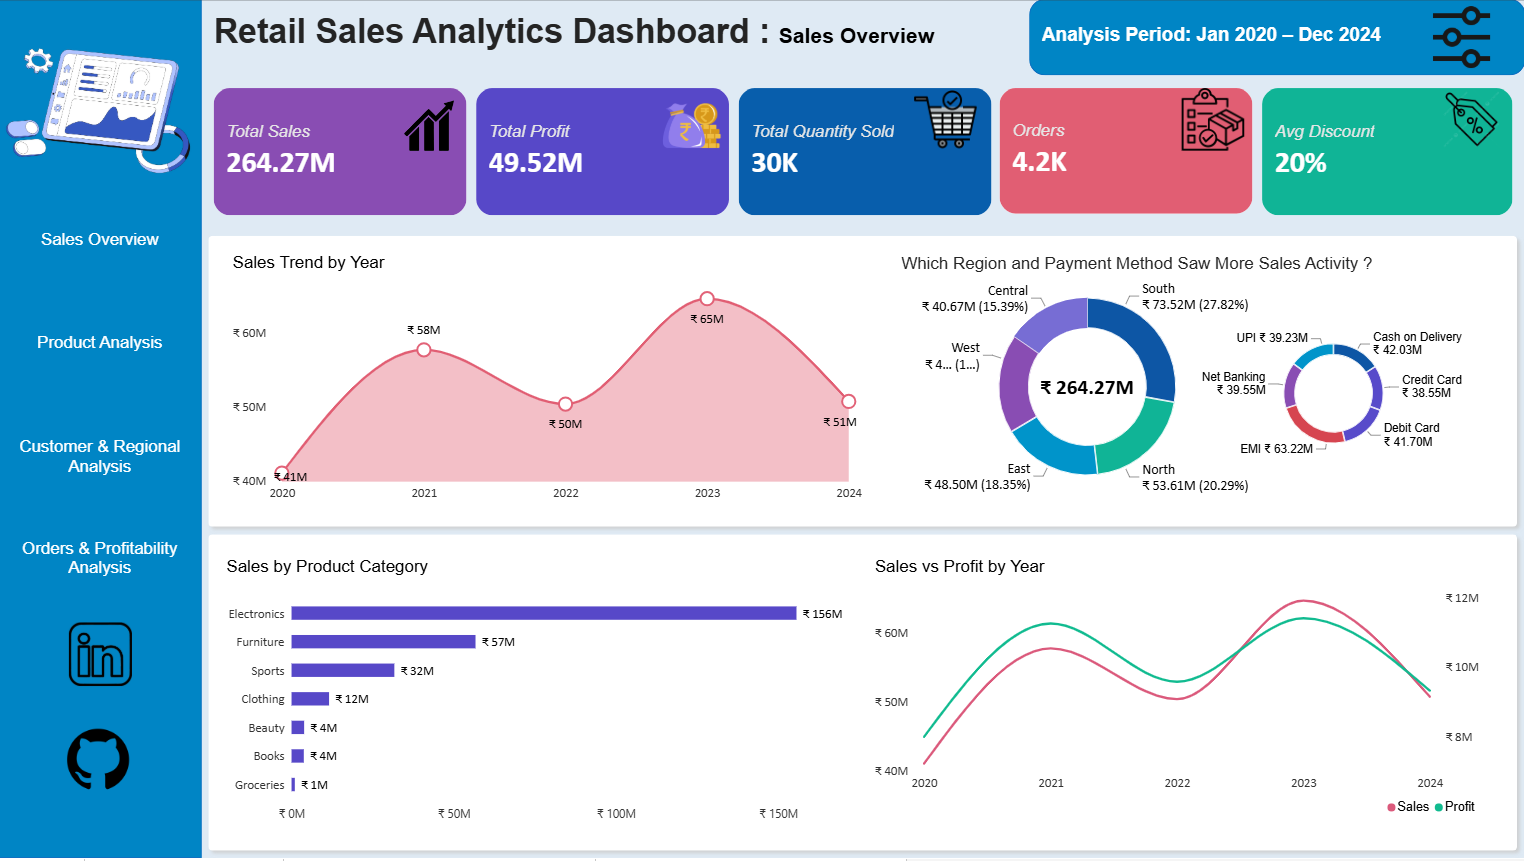

The page's visual inventory and layout, read from the dashboard file:
{"tool":"powerbi","page":{"name":"Sales Overview","canvas":[1920,1080],"ordinal":0},"visuals":[{"type":"group","id":"g1","title":"Group 11","box":[272,112,1632,160],"z":0},{"type":"cardVisual","title":"Total Sales","fields":{"Data":["retail_sales_dataset.Total Quantity Sold"]},"box":[931.4,112,318.9,160],"z":0,"group":"g8"},{"type":"shape","box":[256,288,1664,384],"z":0,"group":"g6"},{"type":"lineChart","title":"Sales vs Profit by Year","fields":{"Category":["retail_sales_dataset.order_date.Variation.Date Hierarchy.Year","retail_sales_dataset.order_date.Variation.Date Hierarchy.Quarter","retail_sales_dataset.order_date.Variation.Date Hierarchy.Month","retail_sales_dataset.order_date.Variation.Date Hierarchy.Day"],"Y":["Sum(retail_sales_dataset.sales_amount)"],"Y2":["Sum(retail_sales_dataset.profit)"]},"box":[1088,688,792,360],"z":0,"group":"g7"},{"type":"cardVisual","title":"Total Sales","fields":{"Data":["retail_sales_dataset.Total Sales"]},"box":[272,112,318.9,160],"z":1000,"group":"g4"},{"type":"cardVisual","title":"Total Sales","fields":{"Data":["retail_sales_dataset.Total Orders"]},"box":[1261.1,112,318.9,158],"z":1000,"group":"g2"},{"type":"group","id":"g2","title":"Group 1","box":[1261.1,112,296.7,160],"z":1000,"group":"g8"},{"type":"lineChart","title":"Sales Trend by Year","fields":{"Category":["retail_sales_dataset.order_date.Variation.Date Hierarchy.Year","retail_sales_dataset.order_date.Variation.Date Hierarchy.Quarter","retail_sales_dataset.order_date.Variation.Date Hierarchy.Month","retail_sales_dataset.order_date.Variation.Date Hierarchy.Day"],"Y":["Sum(retail_sales_dataset.sales_amount)"]},"box":[280.2,303.1,823.9,346.4],"z":1000,"group":"g6"},{"type":"shape","box":[256,664,1664,416],"z":1000},{"type":"clusteredBarChart","title":"Sales by Product Category","fields":{"Category":["retail_sales_dataset.product_category"],"Y":["Sum(retail_sales_dataset.sales_amount)"]},"box":[272,688,832,368],"z":1000,"group":"g7"},{"type":"shape","box":[0,-8,256,1088],"z":2000},{"type":"group","id":"g3","title":"Group 6","box":[1590.8,112,313.2,160],"z":2000,"group":"g8"},{"type":"donutChart","fields":{"Category":["retail_sales_dataset.region"],"Y":["Sum(retail_sales_dataset.sales_amount)"]},"box":[1140.3,320,460.4,336],"z":2000,"group":"g6"},{"type":"group","id":"g4","title":"Group 7","box":[272,112,318.9,160],"z":3000,"group":"g8"},{"type":"actionButton","title":"Page 1","box":[0,400,256,64],"z":3000},{"type":"group","id":"g5","title":"Group 8","box":[601.2,112,318.9,160],"z":4000,"group":"g8"},{"type":"cardVisual","title":"Total Sales","fields":{"Data":["retail_sales_dataset.Avg Discount"]},"box":[1590.8,112,315.1,160],"z":4000,"group":"g9"},{"type":"group","id":"g6","title":"Group 2","box":[256,288,1664,384],"z":4000},{"type":"shape","box":[1296,0,624,96],"z":5000},{"type":"cardVisual","title":"Total Sales","fields":{"Data":["retail_sales_dataset.Total Profit"]},"box":[601.2,112,318.9,160],"z":6000,"group":"g5"},{"type":"donutChart","title":"Region wise Sales","fields":{"Category":["retail_sales_dataset.payment_method"],"Y":["Sum(retail_sales_dataset.sales_amount)"]},"box":[1488,400,384,192],"z":6000},{"type":"textbox","title":"Retail Sales Analytics Dashboard","box":[272,16,976,80],"z":7000},{"type":"group","id":"g7","title":"Group 3","box":[272,688,1616,368],"z":8000},{"type":"textbox","box":[1136,320,640,32],"z":9000},{"type":"image","box":[1760,0,160,96],"z":10000},{"type":"actionButton","title":"Page 1","box":[0,272,256,64],"z":11000},{"type":"textbox","box":[1312,32,432,64],"z":12000},{"type":"actionButton","title":"Page 1","box":[0,528,256,96],"z":13000},{"type":"actionButton","title":"Page 1","box":[0,656,256,96],"z":14000},{"type":"image","box":[64,784,128,80],"z":16000},{"type":"image","box":[502.5,127.8,82.3,63.2],"z":17000,"group":"g4"},{"type":"image","box":[64,912,128,96],"z":17000},{"type":"image","box":[1479.3,112,100.7,79],"z":17500,"group":"g2"},{"type":"image","box":[1804.8,112,98.8,79],"z":17750,"group":"g9"},{"type":"image","box":[0,0,256,272],"z":18000},{"type":"group","id":"g8","title":"Group 9","box":[272,112,1632,160],"z":18000,"group":"g1"},{"type":"image","box":[1152,112,79.9,79],"z":18500,"group":"g1"},{"type":"image","box":[831.7,112,82.3,94.8],"z":19000,"group":"g5"},{"type":"group","id":"g9","title":"Group 10","box":[1590.8,112,313.2,160],"z":24004,"group":"g3"}]}

Visuals, with their boxes in screenshot pixels (x1, y1, x2, y2), scaled from the page's 1920x1080 canvas onto the 1524x861 screenshot:
"Group 11" group: box(216, 89, 1511, 217)
"Total Sales" cardVisual: box(739, 89, 992, 217)
shape: box(203, 230, 1523, 536)
"Sales vs Profit by Year" lineChart: box(864, 548, 1492, 835)
"Total Sales" cardVisual: box(216, 89, 469, 217)
"Total Sales" cardVisual: box(1001, 89, 1254, 215)
"Group 1" group: box(1001, 89, 1237, 217)
"Sales Trend by Year" lineChart: box(222, 242, 876, 518)
shape: box(203, 529, 1523, 860)
"Sales by Product Category" clusteredBarChart: box(216, 548, 876, 842)
shape: box(0, 0, 203, 860)
"Group 6" group: box(1263, 89, 1511, 217)
donutChart - retail_sales_dataset.region x Sum(retail_sales_dataset.sales_amount): box(905, 255, 1271, 523)
"Group 7" group: box(216, 89, 469, 217)
"Page 1" actionButton: box(0, 319, 203, 370)
"Group 8" group: box(477, 89, 730, 217)
"Total Sales" cardVisual: box(1263, 89, 1513, 217)
"Group 2" group: box(203, 230, 1523, 536)
shape: box(1029, 0, 1523, 77)
"Total Sales" cardVisual: box(477, 89, 730, 217)
"Region wise Sales" donutChart: box(1181, 319, 1486, 472)
"Retail Sales Analytics Dashboard" textbox: box(216, 13, 991, 77)
"Group 3" group: box(216, 548, 1499, 842)
textbox: box(902, 255, 1410, 281)
image: box(1397, 0, 1523, 77)
"Page 1" actionButton: box(0, 217, 203, 268)
textbox: box(1041, 26, 1384, 77)
"Page 1" actionButton: box(0, 421, 203, 497)
"Page 1" actionButton: box(0, 523, 203, 600)
image: box(51, 625, 152, 689)
image: box(399, 102, 464, 152)
image: box(51, 727, 152, 804)
image: box(1174, 89, 1254, 152)
image: box(1433, 89, 1511, 152)
image: box(0, 0, 203, 217)
"Group 9" group: box(216, 89, 1511, 217)
image: box(914, 89, 978, 152)
image: box(660, 89, 725, 165)
"Group 10" group: box(1263, 89, 1511, 217)
